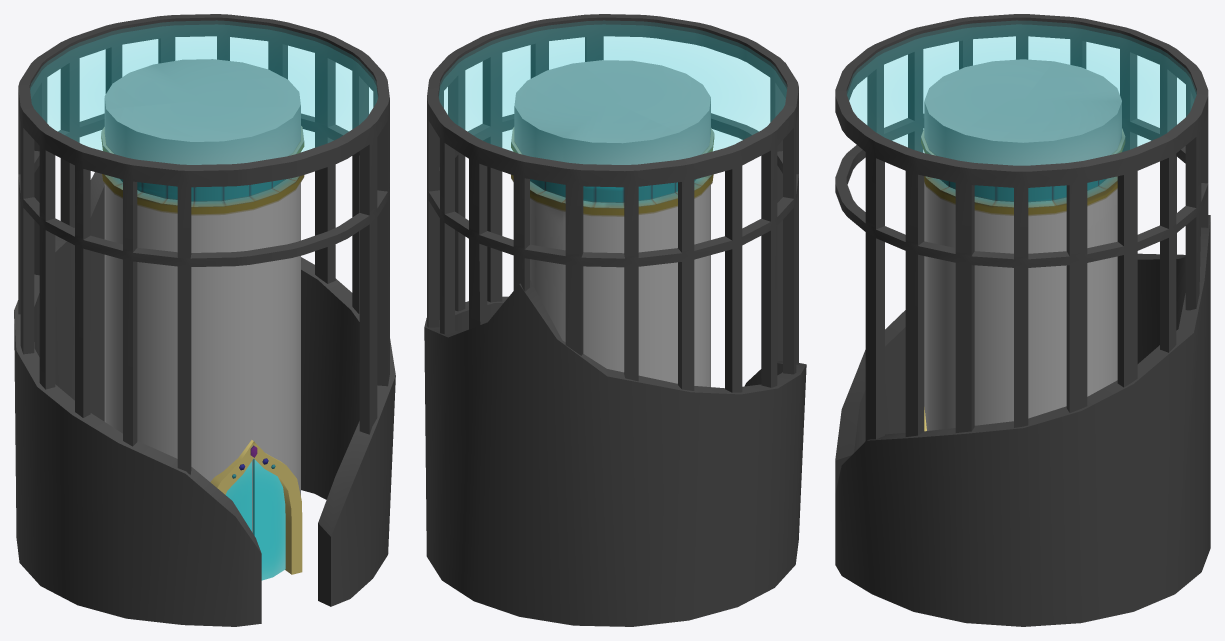
File: model_building01.fbx
3 views of the same model, side by side, from view 1: azimuth 30°, elevation 25°; view 2: azimuth 150°, elevation 25°; view 3: azimuth 270°, elevation 25° (orthographic).
Parts seen in each view (by area): view 1: polySurface21, polySurface10; view 2: polySurface21, polySurface10; view 3: polySurface21, polySurface10.
Boxes of the visible parts, bbox=[...] form: polySurface21: bbox=[14, 14, 395, 626]; polySurface10: bbox=[30, 21, 377, 164]; polySurface21: bbox=[424, 14, 806, 626]; polySurface10: bbox=[439, 21, 786, 164]; polySurface21: bbox=[835, 14, 1210, 626]; polySurface10: bbox=[847, 21, 1196, 165].
Bounding box in the file's own units: 10.08 × 13.28 × 9.9.
